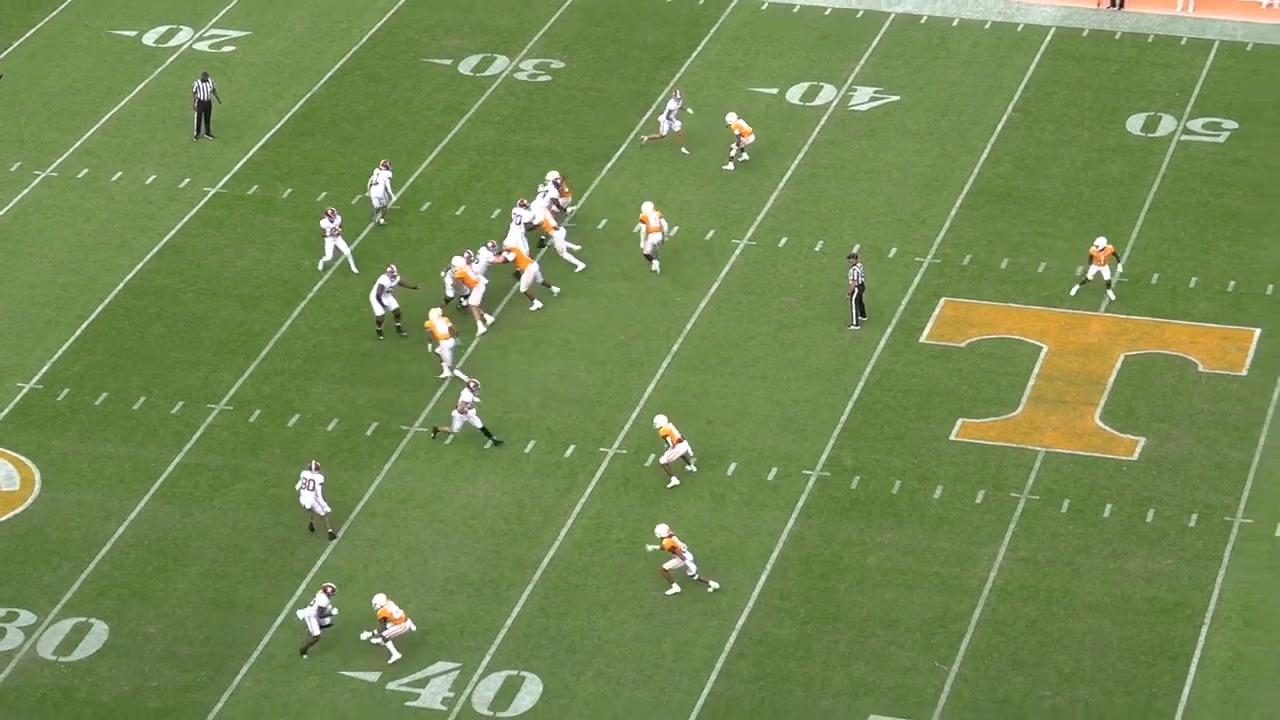defense: (647, 519, 724, 604), (421, 305, 478, 385), (508, 243, 567, 315), (455, 243, 499, 339), (362, 591, 416, 668), (1068, 234, 1124, 307), (530, 205, 586, 277), (648, 410, 697, 489), (634, 198, 673, 277), (724, 106, 761, 173), (543, 170, 577, 213)
oline: (363, 266, 412, 346), (499, 196, 537, 257), (441, 252, 474, 311), (468, 240, 508, 280), (531, 178, 562, 214)
qb: (313, 207, 360, 280)
ref: (186, 69, 219, 145), (842, 249, 870, 337)
skill: (431, 379, 502, 450), (287, 457, 336, 545), (640, 84, 697, 157), (288, 583, 336, 665), (359, 160, 393, 232)
